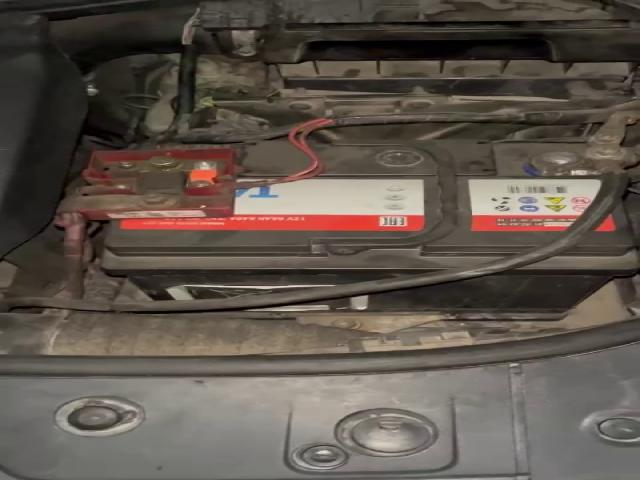accumulator: (65, 140, 640, 314)
